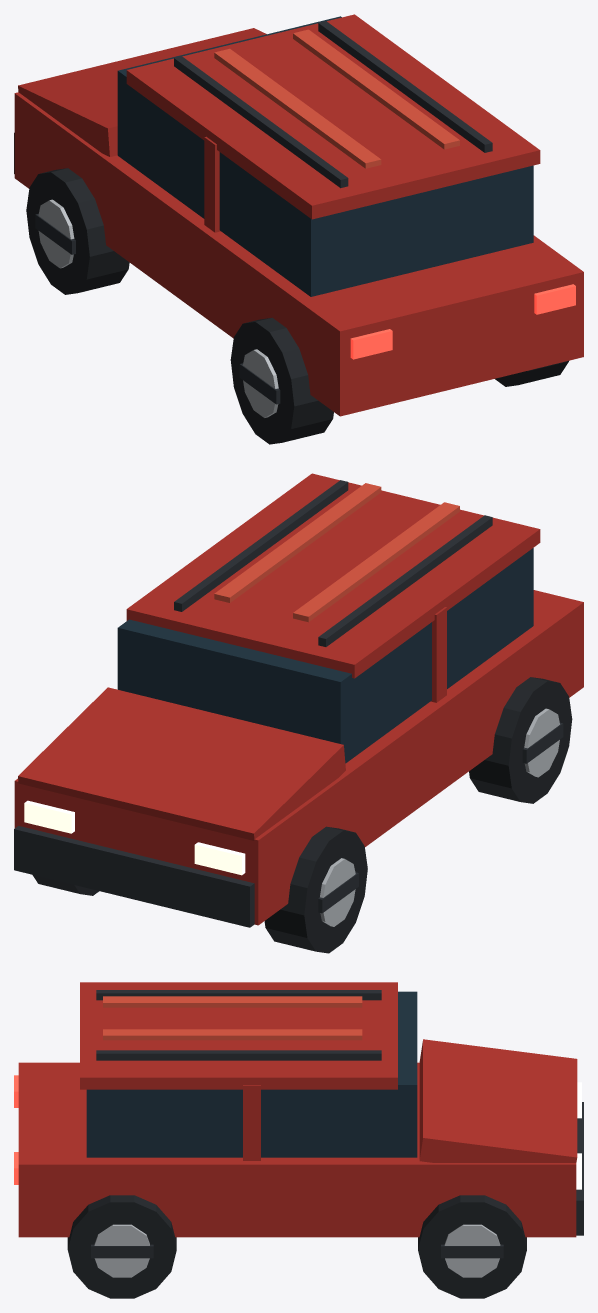
File: car.glb
The picture shows the model from 3 angles, top to bottom: view 1: azimuth 30°, elevation 25°; view 2: azimuth 150°, elevation 25°; view 3: azimuth 270°, elevation 25°; orthographic projection. The views are drawn at different scales.
Visible parts, largest first — view 1: CLCar, CLCar_cyl_016, CLCar_cyl_022, CLCar_cyl_017, CLCar_cyl_023, CLCar_cyl_025, CLCar_box_024, CLCar_box_018; view 2: CLCar, CLCar_cyl_022, CLCar_cyl_016, CLCar_cyl_017, CLCar_cyl_023, CLCar_box_024, CLCar_box_018; view 3: CLCar, CLCar_cyl_025, CLCar_cyl_019, CLCar_cyl_020, CLCar_cyl_026, CLCar_box_021, CLCar_box_027.
Part boxes in pixels (x1,y1,x2,y2): CLCar: [14, 14, 583, 416]; CLCar_cyl_016: [26, 168, 129, 294]; CLCar_cyl_022: [230, 317, 333, 444]; CLCar_cyl_017: [38, 199, 74, 268]; CLCar_cyl_023: [243, 349, 278, 417]; CLCar_cyl_025: [495, 360, 568, 386]; CLCar_box_024: [239, 363, 280, 404]; CLCar_box_018: [35, 213, 75, 254]; CLCar: [14, 473, 583, 927]; CLCar_cyl_022: [469, 677, 572, 803]; CLCar_cyl_016: [264, 826, 367, 953]; CLCar_cyl_017: [320, 858, 355, 926]; CLCar_cyl_023: [524, 708, 559, 777]; CLCar_box_024: [522, 722, 563, 763]; CLCar_box_018: [318, 872, 358, 913]; CLCar: [14, 982, 583, 1237]; CLCar_cyl_025: [67, 1195, 176, 1298]; CLCar_cyl_019: [418, 1195, 526, 1298]; CLCar_cyl_020: [444, 1224, 500, 1277]; CLCar_cyl_026: [94, 1224, 149, 1277]; CLCar_box_021: [441, 1244, 503, 1258]; CLCar_box_027: [91, 1244, 153, 1258].
Size of the model in its own units: 2.19 by 1.91 by 4.4.
